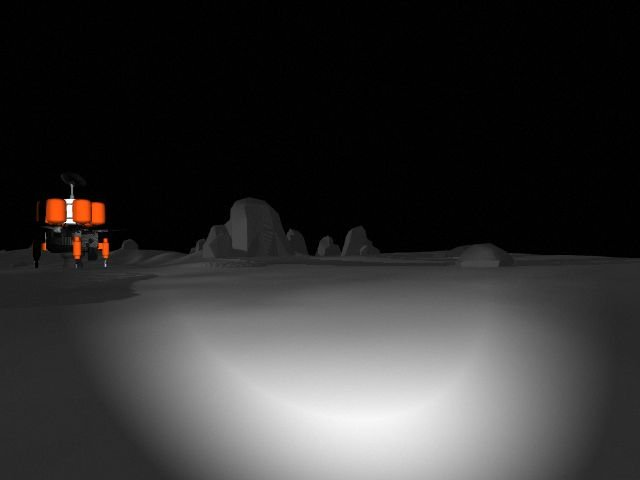homebase: (15, 170, 123, 270)
